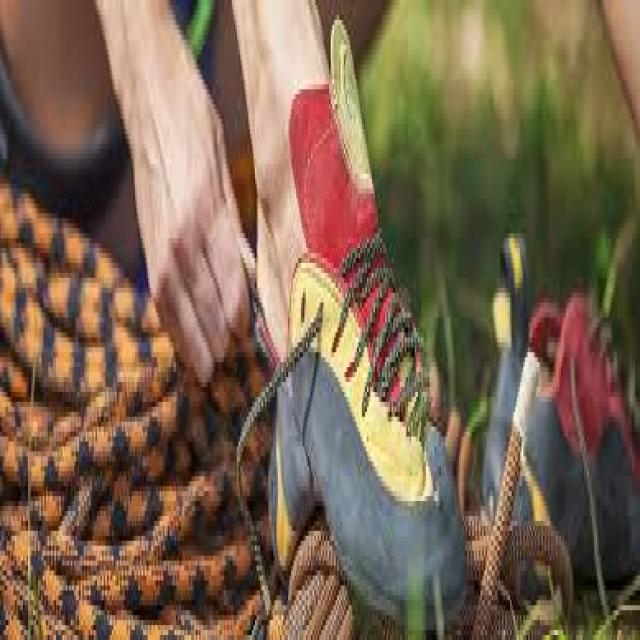climbing-shoes: (270, 205, 464, 618), (483, 223, 640, 590)
